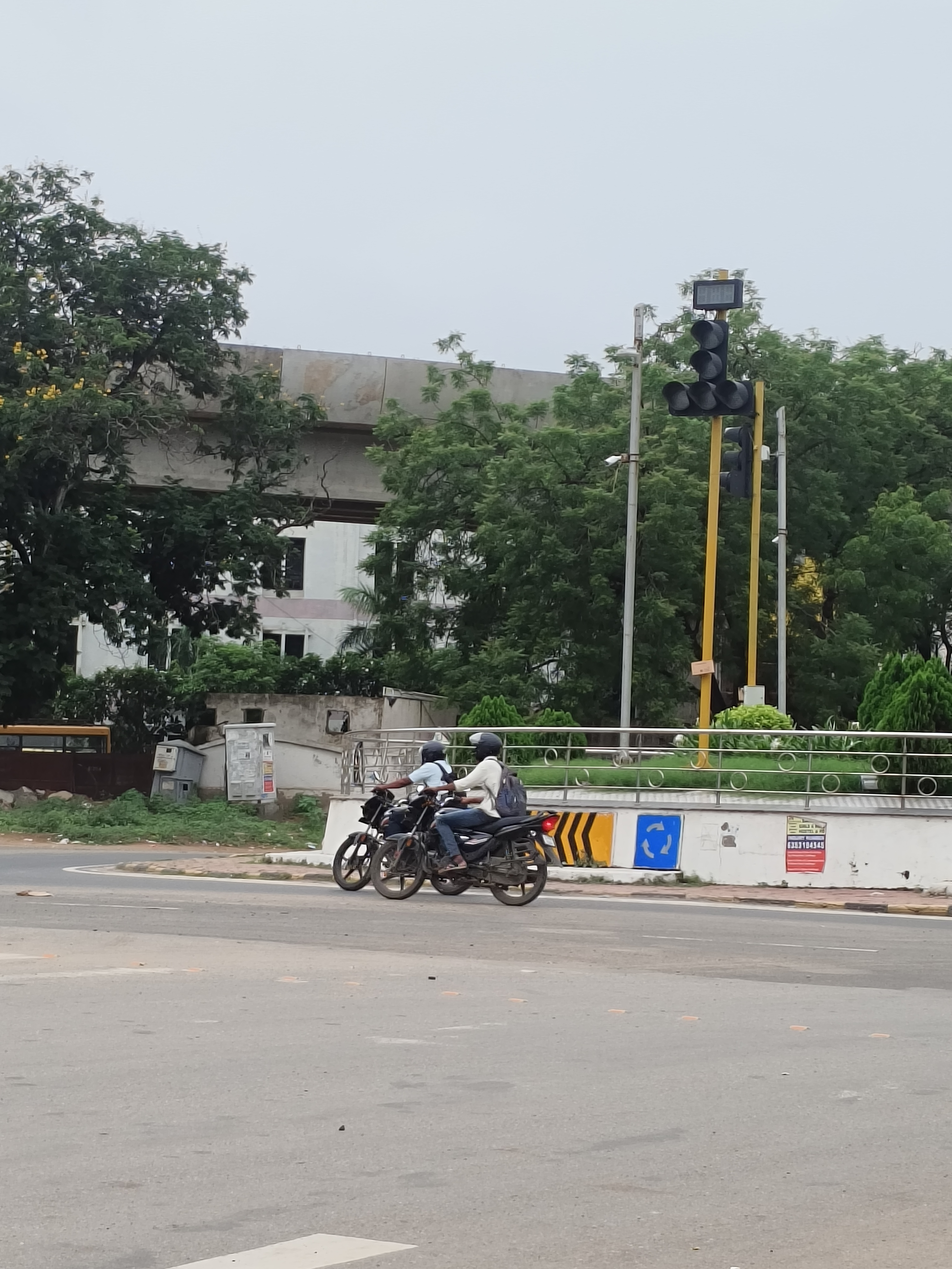BikeWithRider: (367, 728, 562, 909), (326, 736, 477, 899)
Helmet: (467, 728, 507, 764), (415, 737, 450, 767)
